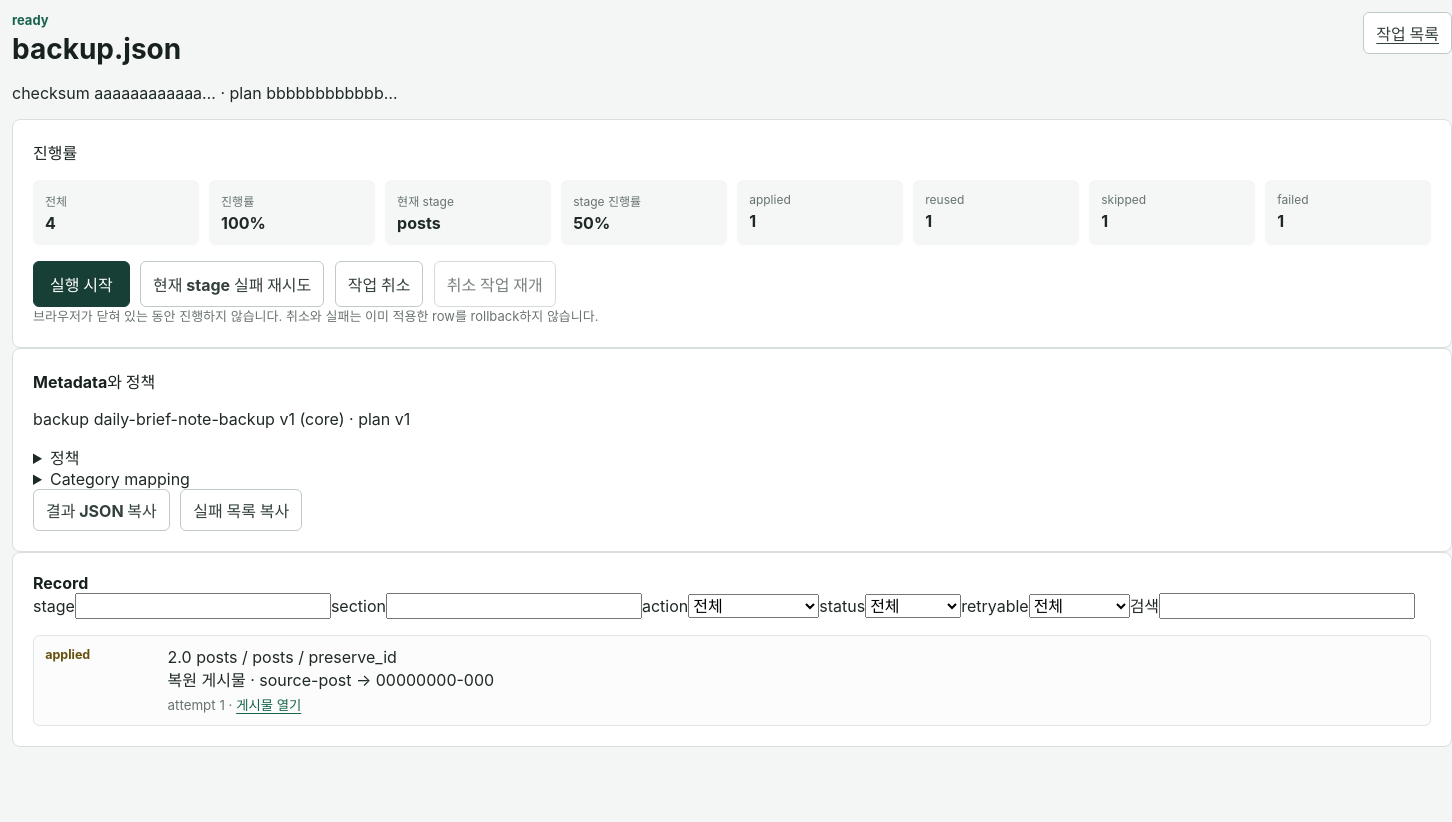
it: BackupRestoreJobDetailPage › 실행 중 버튼과 입력을 잠근다
Click the button "실행 시작".
click(81, 284)  # box [33,261,130,307]
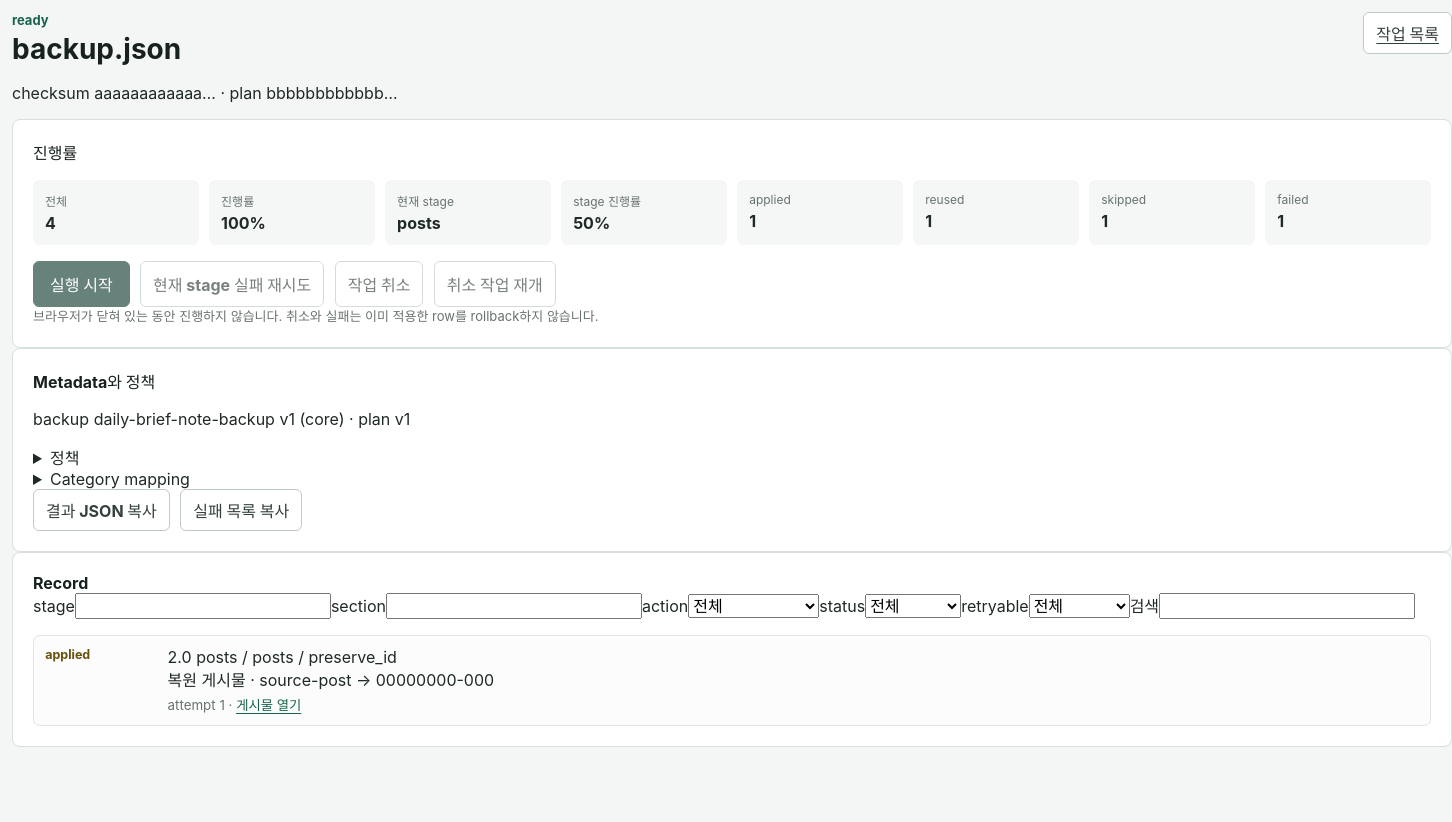
Expected: the button "실행 시작" is disabled, [33,261,130,307]
